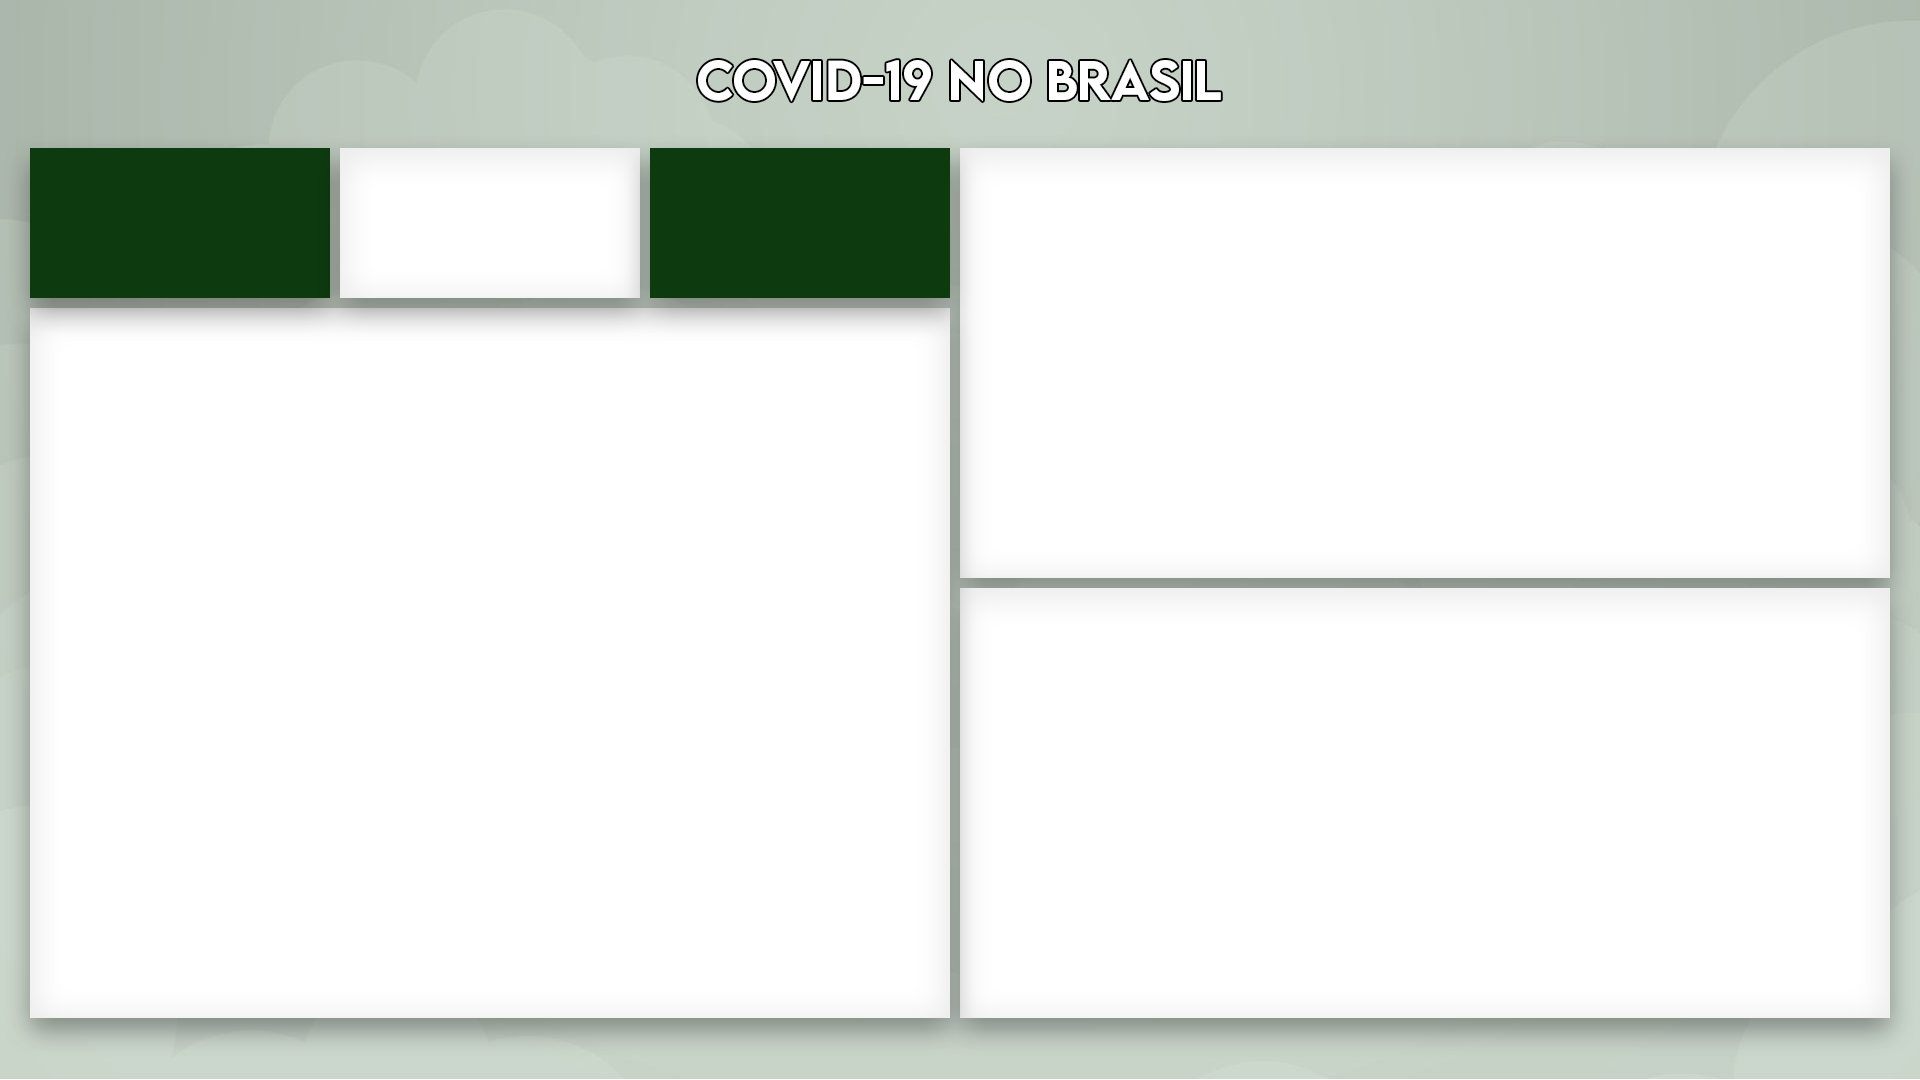

The dashboard page shown, as its layout file describes it:
{"tool":"powerbi","page":{"name":"Page 1","canvas":[1920,1080],"ordinal":0},"visuals":[{"type":"PBI_CV_815282F9_27F5_4950_9430_E910E0A8DB6A","fields":{"Y":["Max(df.Cases)"],"tooltips":["Min(df.Estado)","Max(df.Suspects)","Max(df.Cases)","Max(df.Refuses)","Max(df.Deaths)"],"Category":["df.ID"]},"box":[34.3,308.9,910,700],"z":0},{"type":"lineChart","fields":{"Y":["Sum(df.Cases)"],"Category":["Calendário.Date.Variation.Date Hierarchy.Month","Calendário.Date.Variation.Date Hierarchy.Day"]},"box":[962.5,147.9,921.6,419.9],"z":1000},{"type":"card","fields":{"Values":["Medidas gerais.Total de casos confirmados"]},"box":[34.3,149.2,290.5,140],"z":2000},{"type":"barChart","fields":{"Y":["Medidas gerais.Total de casos confirmados"],"Category":["df.Região"]},"box":[963.8,588.9,921.6,419.9],"z":3000},{"type":"card","fields":{"Values":["Medidas gerais.Total de casos descartados"]},"box":[653.5,149.2,290.5,140],"z":4000},{"type":"card","fields":{"Values":["Medidas gerais.Total de casos suspeitos"]},"box":[344.6,149.2,290.5,140],"z":5000}]}

Visuals, with their boxes in screenshot pixels (x1, y1, x2, y2), scaled from the page's 1920x1080 canvas onto the 1920x1080 screenshot:
PBI_CV_815282F9_27F5_4950_9430_E910E0A8DB6A - Max(df.Cases) x Min(df.Estado): 34/309/944/1009
lineChart - Sum(df.Cases) x Calendário.Date.Variation.Date Hierarchy.Month: 962/148/1884/568
card - Medidas gerais.Total de casos confirmados: 34/149/325/289
barChart - Medidas gerais.Total de casos confirmados x df.Região: 964/589/1885/1009
card - Medidas gerais.Total de casos descartados: 654/149/944/289
card - Medidas gerais.Total de casos suspeitos: 345/149/635/289
